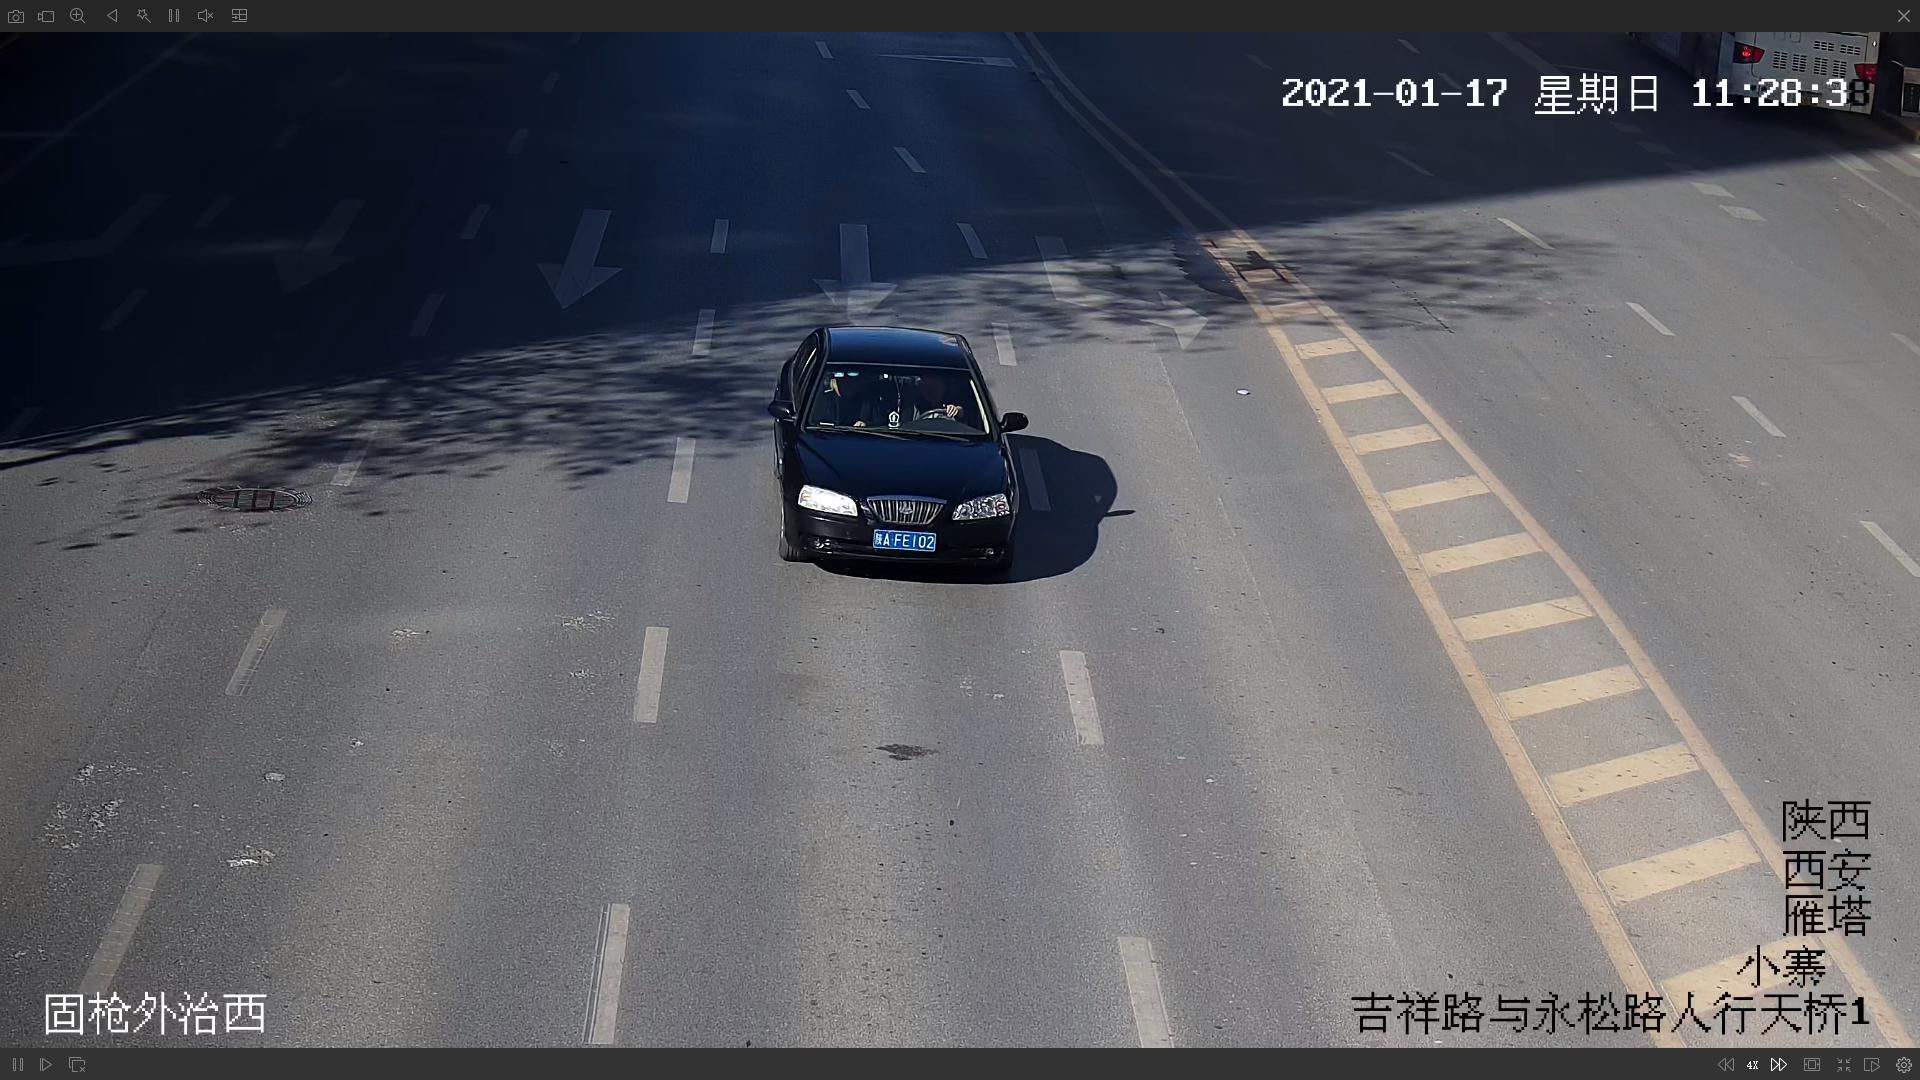black: (767, 320, 1027, 582)
